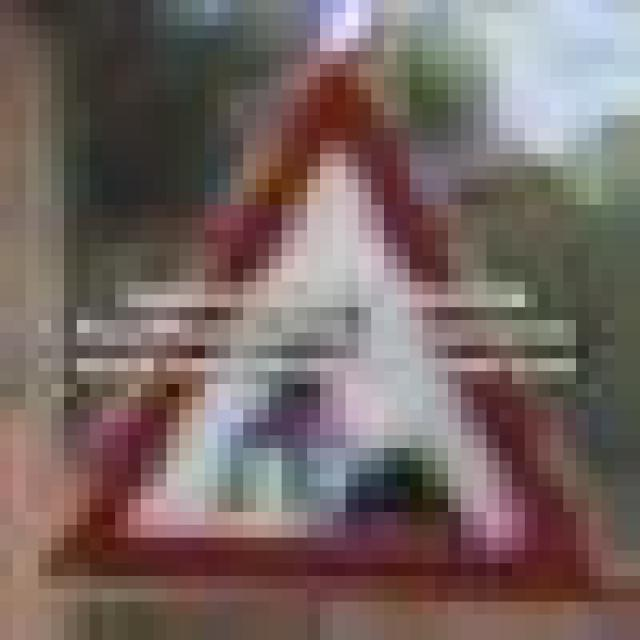road_work: (38, 51, 628, 589)
